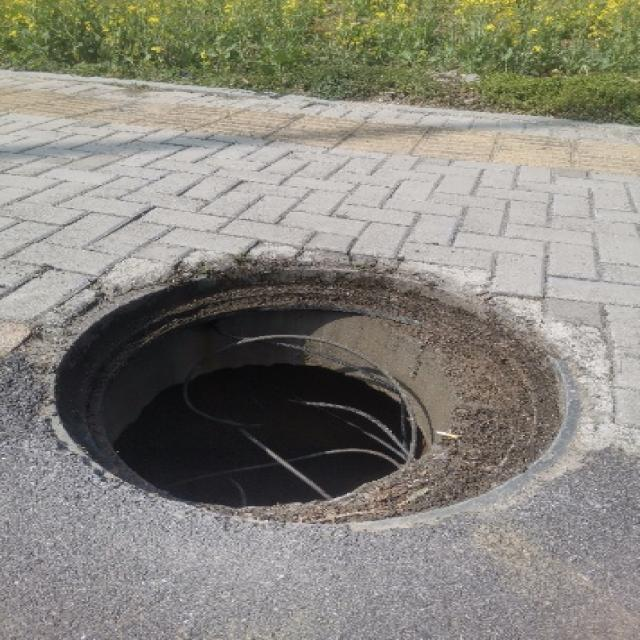Uncovered: (44, 234, 581, 538)
